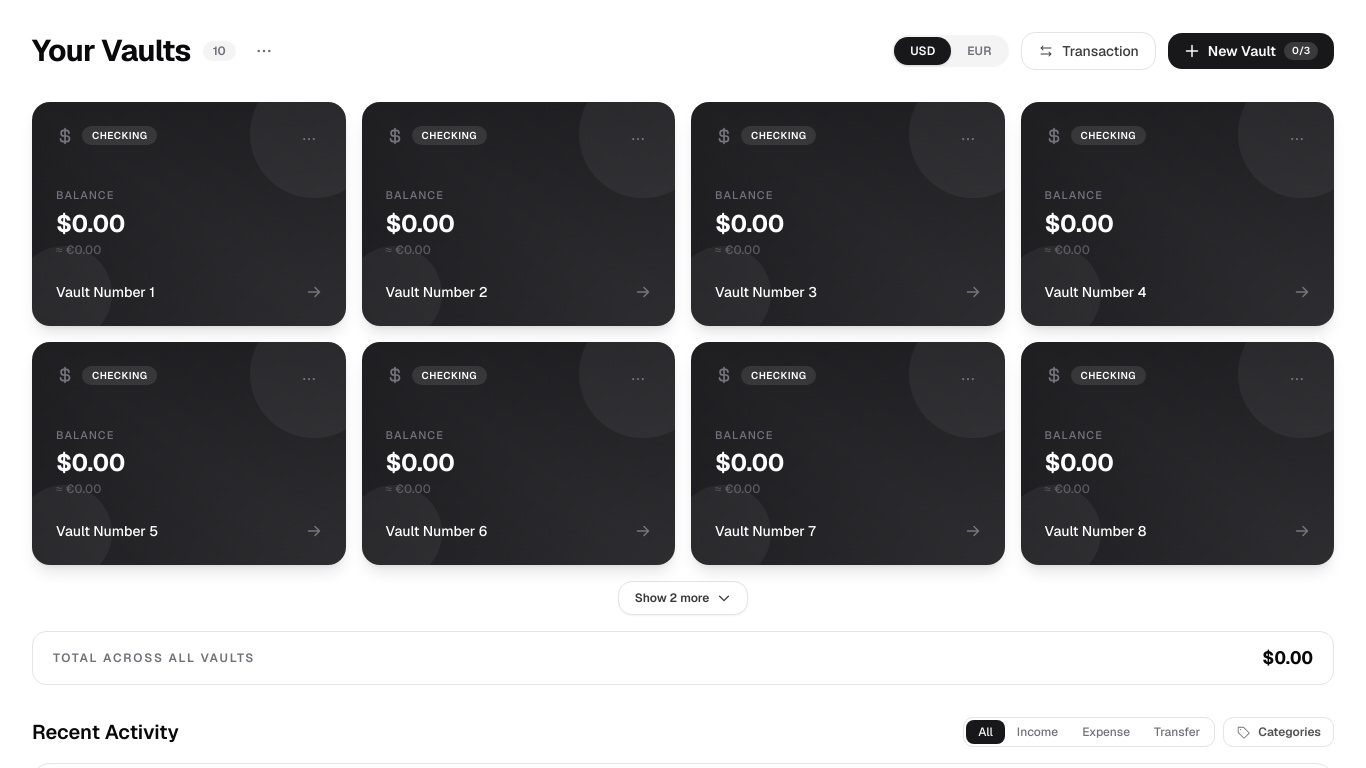
Test: Vaults Visibility and Row Limiting › truncates at 2 rows (8 vaults) by default and shows 'Show 2 more' button
The image size is (1366, 768).
Expected: the heading "Your Vaults" is shown, [32,33,191,69]
Expected: the text "Vault Number 1" is shown, [56,282,155,302]
Click to expand
Click the button "Show 2 more" at (683, 598), box [618,581,748,615]
(page scrolled)
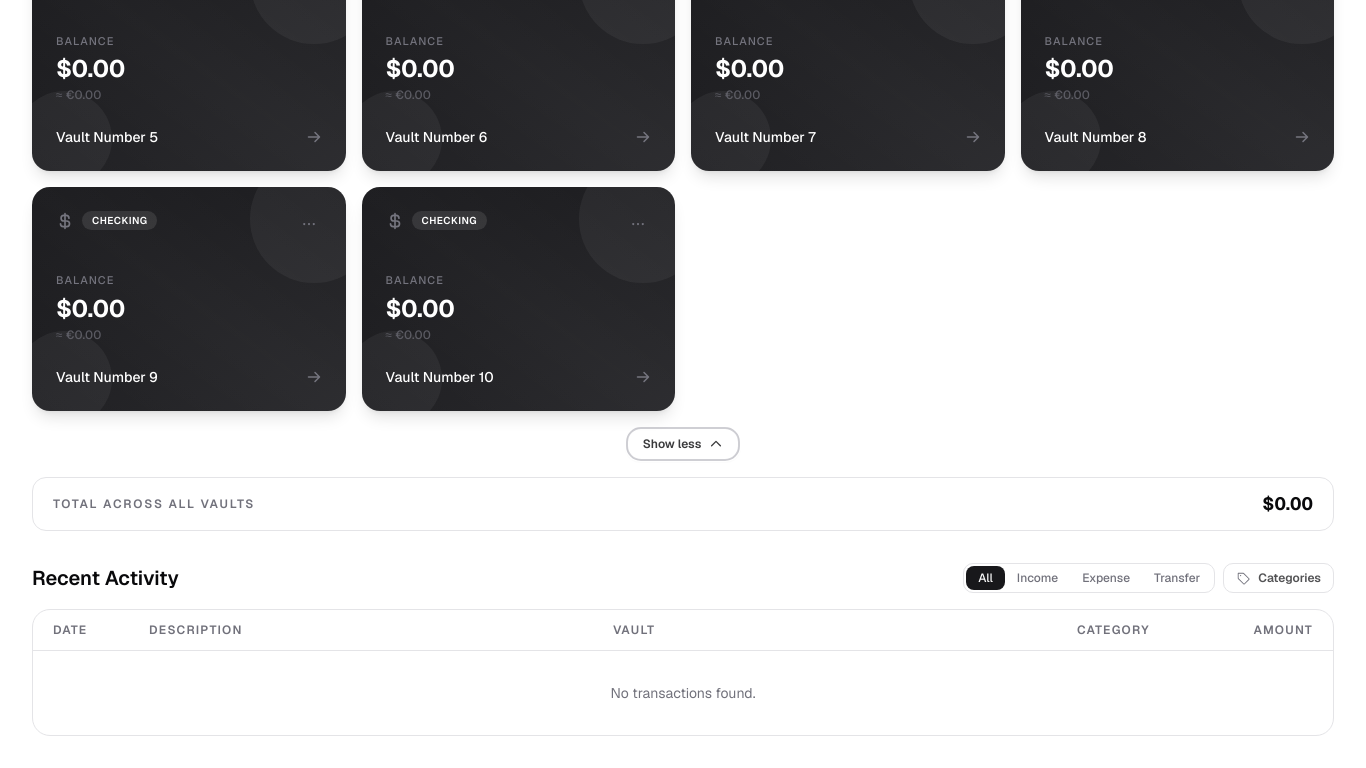
Expected: the text "Vault Number 9" is shown, [56,366,158,386]
Expected: the text "Vault Number 10" is shown, [386,366,494,386]
Expected: the button "Show less" is shown
Click to collapse
Click the button "Show less" at (683, 444), box [626,426,740,460]
(page scrolled)
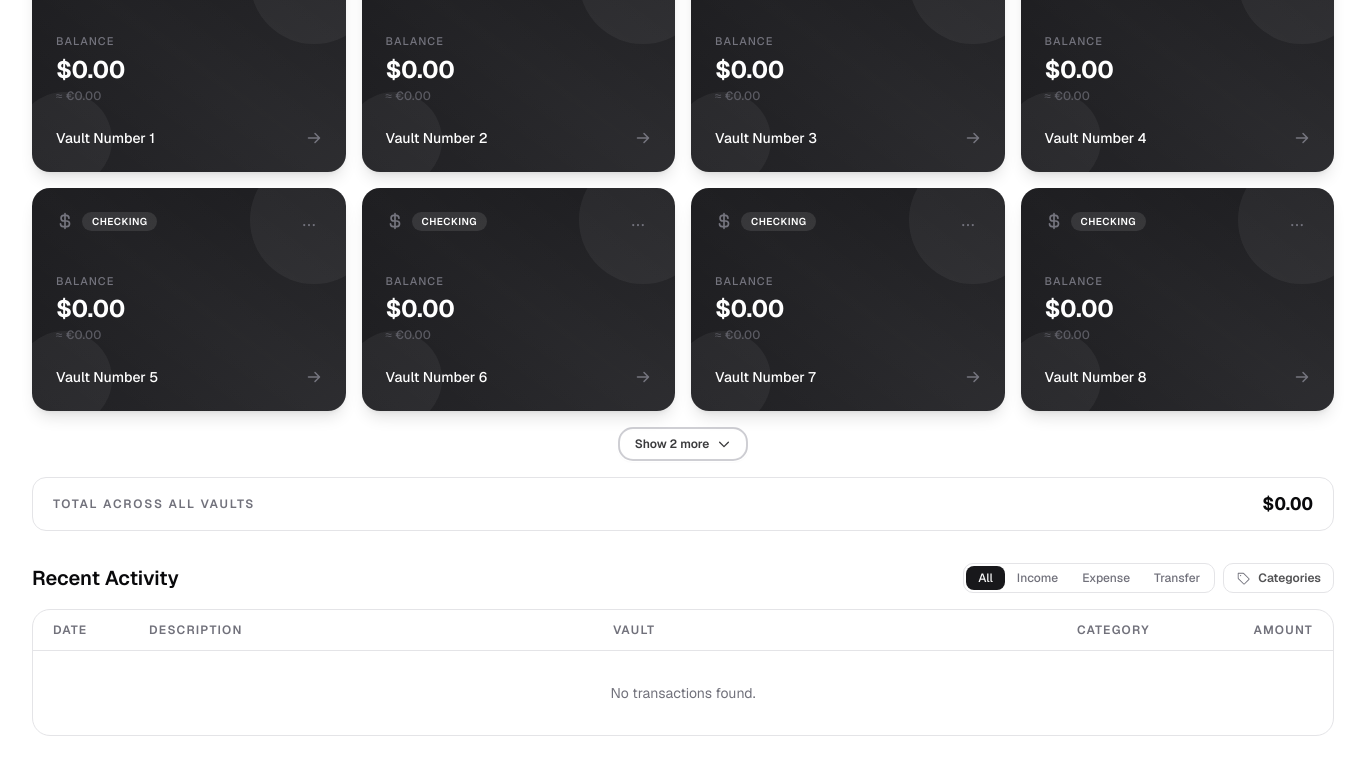
Expected: the text "Vault Number 9" is gone
Expected: the button "Show 2 more" is shown, [618,427,748,461]
